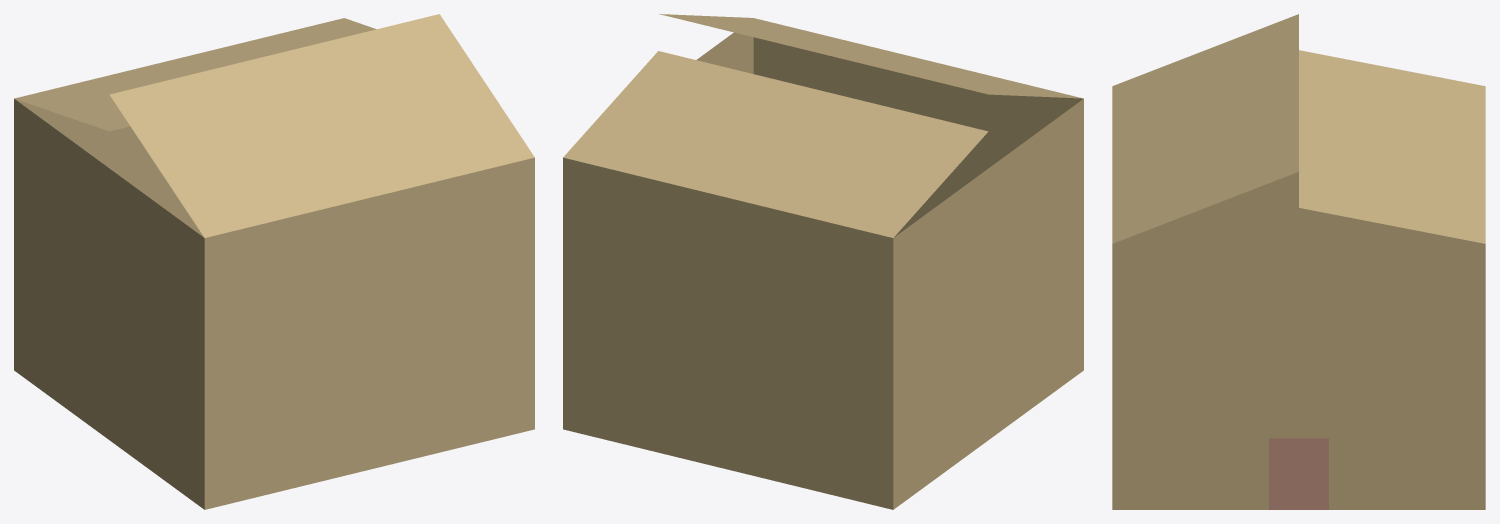
Rendered from cardboard-box-closed.glb.
The picture shows the model from 3 angles, left to right: view 1: azimuth 30°, elevation 25°; view 2: azimuth 150°, elevation 25°; view 3: azimuth 270°, elevation 25°; orthographic projection. The views are drawn at different scales.
Size of the model in its own units: 1 by 1 by 1.
